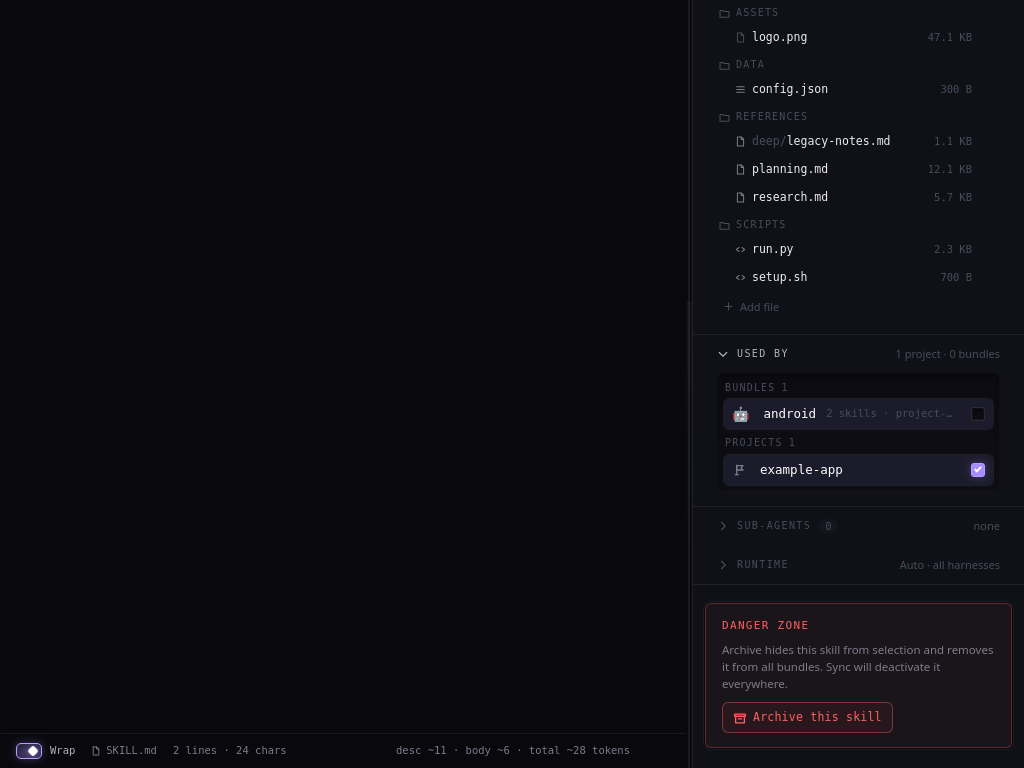
skill editor side panel — IA › [4] collapses RUNTIME, states the effective mode, and opens the unchanged picker
(page scrolled)
Expected: the element showing "Runtime Auto · all harnesses" is shown, x1=693 y1=546 x2=1023 y2=585
Click the button with test id "side-section-runtime": (804,565) x1=717 y1=546 x2=892 y2=584
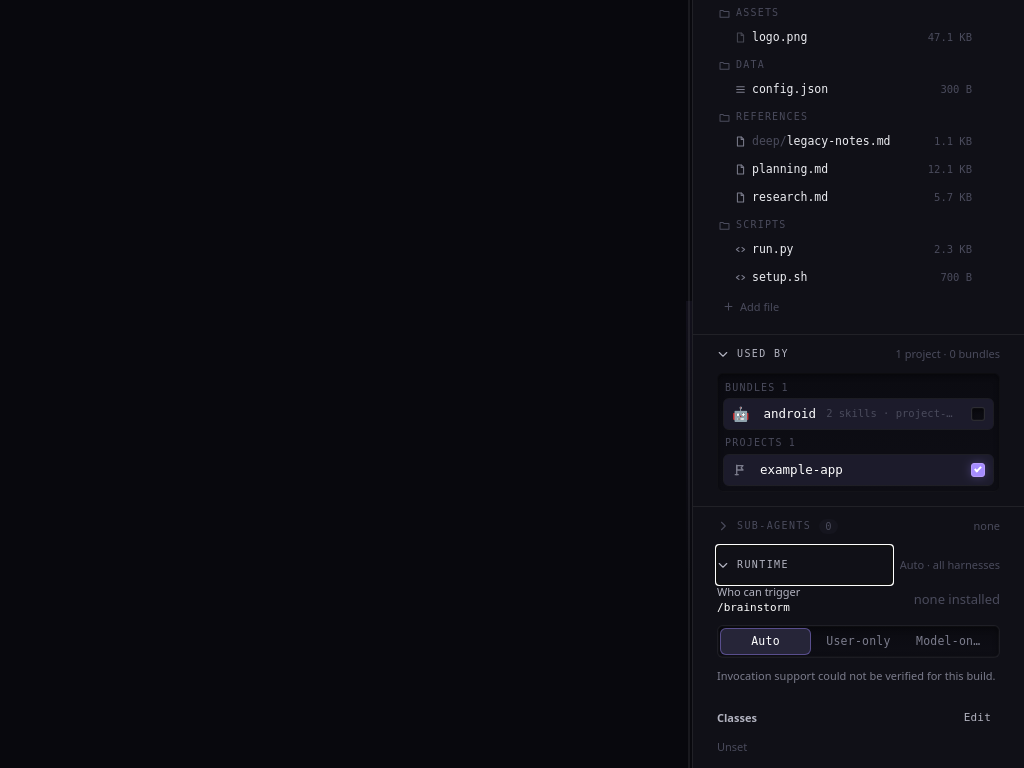
Result: the element named "Triggering" is shown at x1=717 y1=625 x2=1000 y2=658
Result: the radio button labelled "User-only" is shown at x1=826 y1=634 x2=891 y2=648
